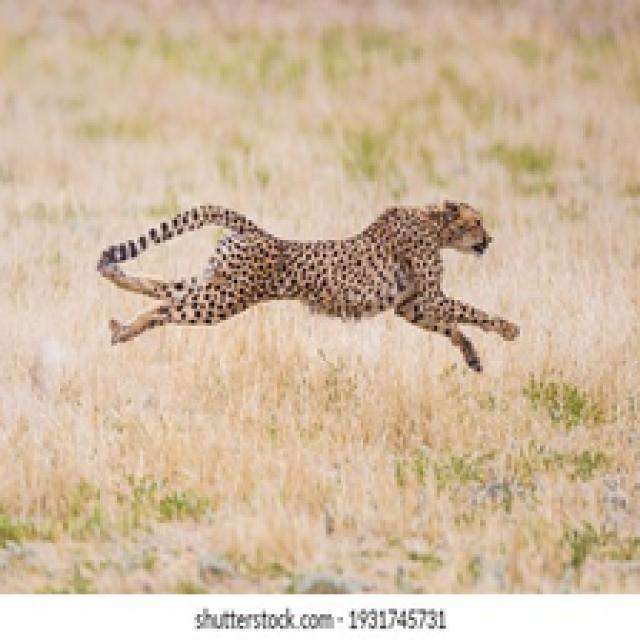cheetah: (84, 193, 532, 380)
